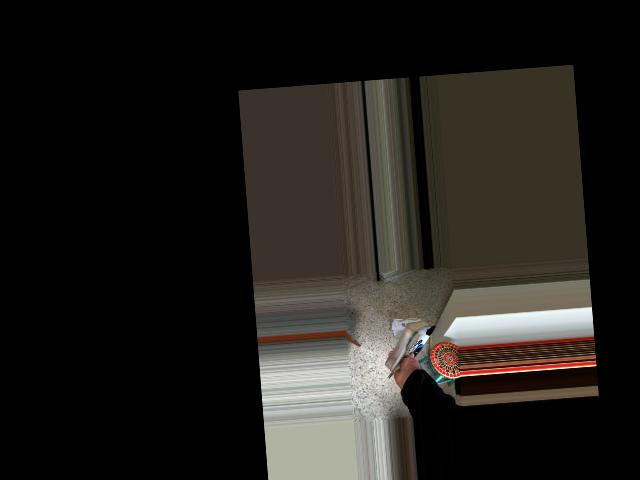cheese: (375, 310, 448, 389)
